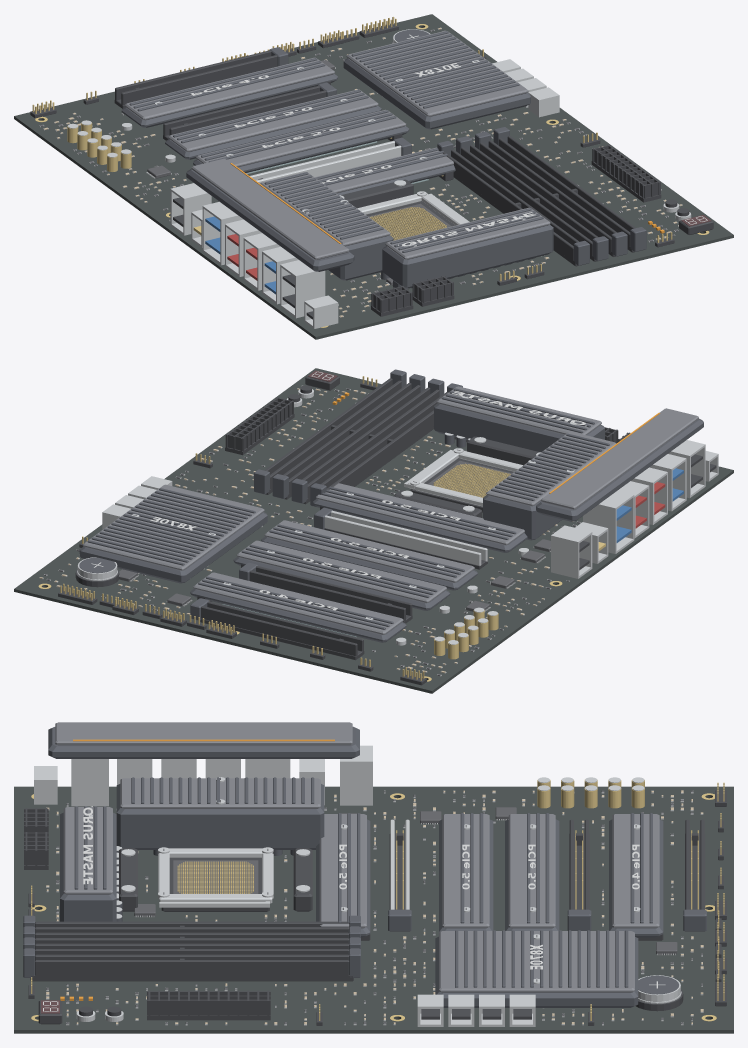
Rendered from L128_CompleteMotherboard.glb.
3 renders of one model, top to bottom at view 1: azimuth 30°, elevation 25°; view 2: azimuth 150°, elevation 25°; view 3: azimuth 270°, elevation 25°, orthographic. The views are drawn at different scales.
Visible parts, largest first — view 1: PCB__PCB, CHIPSET_ARMOR__DarkArmor, VRM_TOP_ARMOR__DarkArmor, CHIPSET_ARMOR__Armor, IO_SHROUD__Armor, VRM_LEFT_ARMOR__DarkArmor, M2_ARMOR_4__DarkArmor, M2_ARMOR_2__DarkArmor, M2_ARMOR_3__DarkArmor, M2_ARMOR_4__Armor, M2_ARMOR_3__Armor, PCIEX4_2__Plastic (+31 smaller); view 2: PCB__PCB, CHIPSET_ARMOR__DarkArmor, VRM_TOP_ARMOR__DarkArmor, CHIPSET_ARMOR__Armor, VRM_LEFT_ARMOR__DarkArmor, IO_SHROUD__Armor, PCIEX4_2__Plastic, M2_ARMOR_4__DarkArmor, M2_ARMOR_1__DarkArmor, M2_ARMOR_2__DarkArmor, PCIEX16__Steel, M2_ARMOR_4__Armor (+29 smaller); view 3: PCB__PCB, VRM_LEFT_ARMOR__DarkArmor, CHIPSET_ARMOR__Armor, DDR5_B2__Plastic, CHIPSET_ARMOR__DarkArmor, IO_SHROUD__Armor, VRM_LEFT_ARMOR__Armor, IO_SHROUD__DarkArmor, M2_ARMOR_2__Armor, M2_ARMOR_3__Armor, M2_ARMOR_4__Armor, M2_ARMOR_1__Armor (+41 smaller).
Boxes of the visible parts, x1,y1,x2,y2 form: PCB__PCB: (14,14,733,339); CHIPSET_ARMOR__DarkArmor: (343,31,530,129); VRM_TOP_ARMOR__DarkArmor: (382,208,553,288); CHIPSET_ARMOR__Armor: (346,30,528,116); IO_SHROUD__Armor: (191,158,349,259); VRM_LEFT_ARMOR__DarkArmor: (264,172,393,280); M2_ARMOR_4__DarkArmor: (121,58,337,127); M2_ARMOR_2__DarkArmor: (193,110,409,172); M2_ARMOR_3__DarkArmor: (165,90,381,159); M2_ARMOR_4__Armor: (124,57,334,120); M2_ARMOR_3__Armor: (168,89,378,151); PCIEX4_2__Plastic: (114,50,277,108); PCB__PCB: (14,368,733,693); CHIPSET_ARMOR__DarkArmor: (79,488,267,583); VRM_TOP_ARMOR__DarkArmor: (434,388,604,452); CHIPSET_ARMOR__Armor: (82,484,264,570); VRM_LEFT_ARMOR__DarkArmor: (483,433,609,540); IO_SHROUD__Armor: (541,408,698,509); PCIEX4_2__Plastic: (200,601,364,660); M2_ARMOR_4__DarkArmor: (190,576,406,642); M2_ARMOR_1__DarkArmor: (313,486,527,552); M2_ARMOR_2__DarkArmor: (261,524,477,590); PCIEX16__Steel: (324,510,487,565); M2_ARMOR_4__Armor: (193,572,403,634); PCB__PCB: (14,786,733,1033); VRM_LEFT_ARMOR__DarkArmor: (116,777,324,849); CHIPSET_ARMOR__Armor: (439,931,634,992); DDR5_B2__Plastic: (30,954,353,981); CHIPSET_ARMOR__DarkArmor: (435,930,638,1007); IO_SHROUD__Armor: (55,722,352,745); VRM_LEFT_ARMOR__Armor: (120,778,320,808); IO_SHROUD__DarkArmor: (48,726,359,758); M2_ARMOR_2__Armor: (442,814,489,928); M2_ARMOR_3__Armor: (508,814,555,928); M2_ARMOR_4__Armor: (612,814,659,928); M2_ARMOR_1__Armor: (319,814,366,928).
Bounding box in the file's own units: 0.244 × 0.0386 × 0.305.
